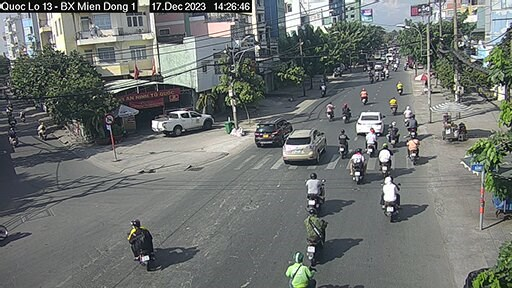car: (149, 109, 210, 134), (286, 128, 322, 160), (255, 115, 289, 148), (354, 108, 384, 132)
motorbike: (125, 218, 158, 273), (375, 175, 401, 218), (301, 176, 332, 211), (304, 216, 328, 253), (373, 145, 394, 174), (363, 127, 385, 151), (350, 153, 368, 180), (333, 128, 349, 157), (405, 140, 422, 162)
